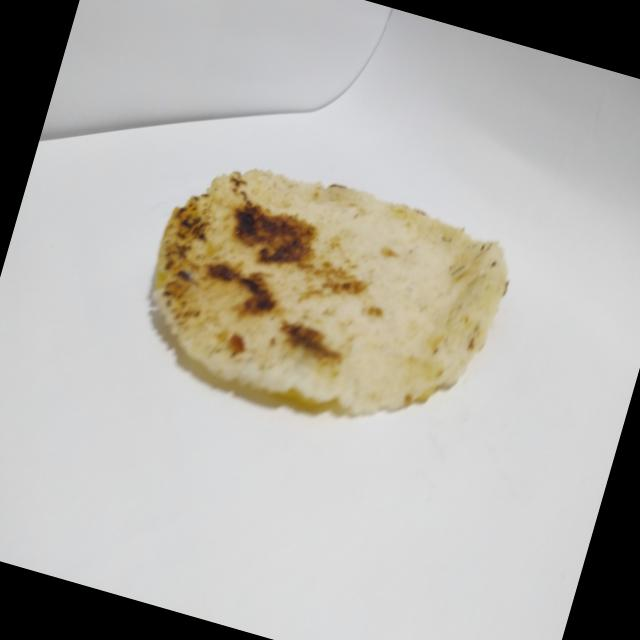Mbeju: (115, 120, 532, 465)
